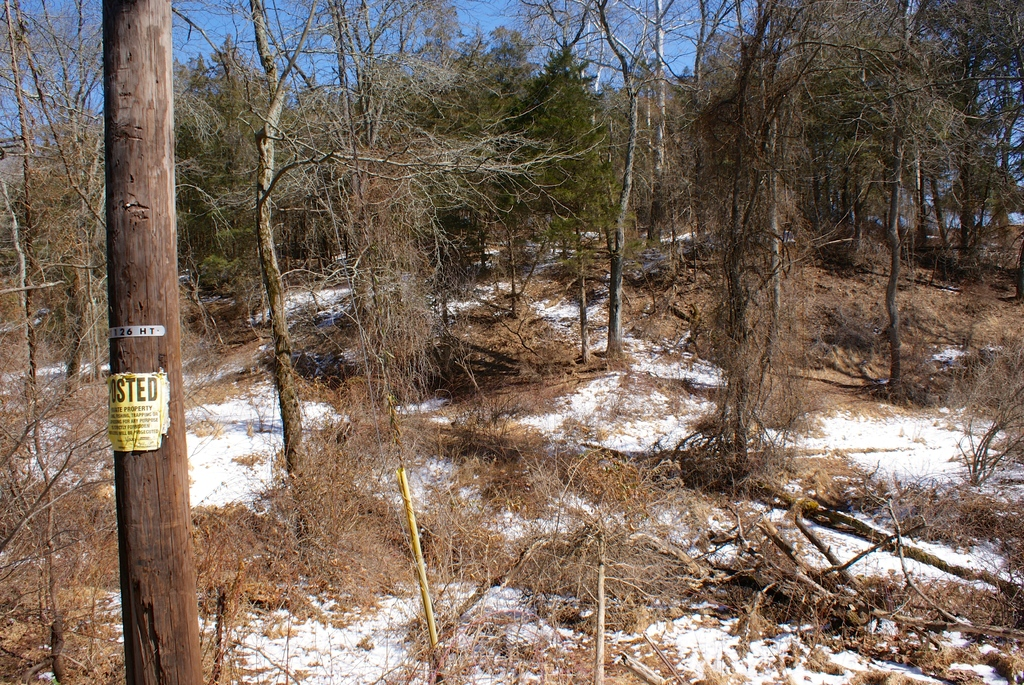Tree: (0, 0, 1023, 684), (492, 38, 628, 358)
